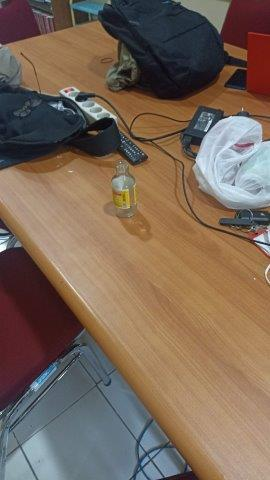botolkaca: (111, 161, 137, 219)
plastik: (192, 115, 270, 211)
